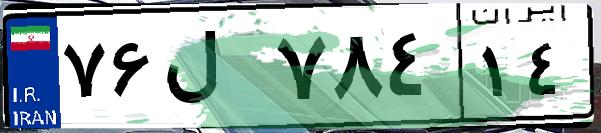1: (475, 38, 525, 113)
4: (385, 28, 445, 110), (525, 38, 570, 115)
6: (110, 28, 158, 98)
7: (270, 28, 330, 110), (57, 26, 110, 100)
8: (330, 28, 385, 110)
ل: (158, 20, 270, 120)
